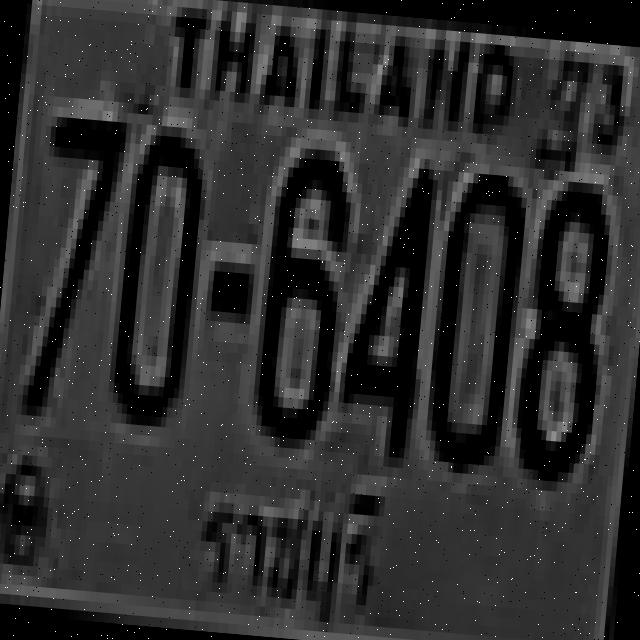0: (423, 161, 524, 466), (106, 123, 206, 418)
4: (334, 153, 434, 458)
6: (250, 136, 350, 440)
7: (22, 106, 122, 410)
8: (508, 178, 608, 474)
Ratchaburi: (184, 457, 388, 636)
